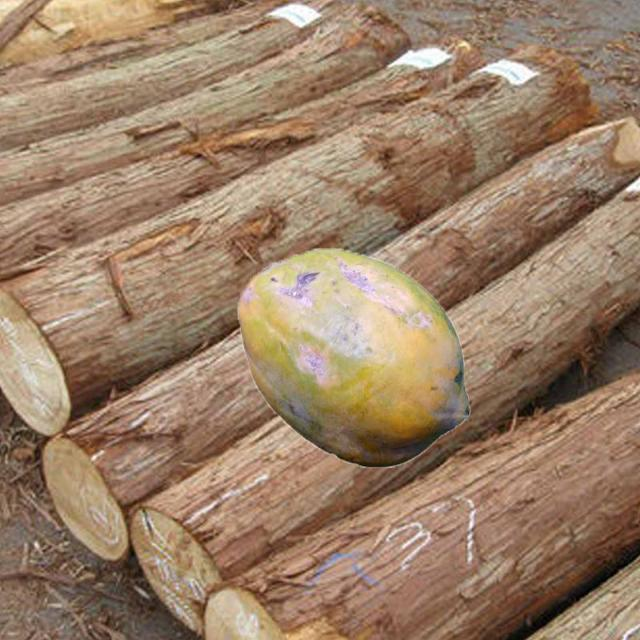Pepaya rippen: (219, 245, 473, 465)
